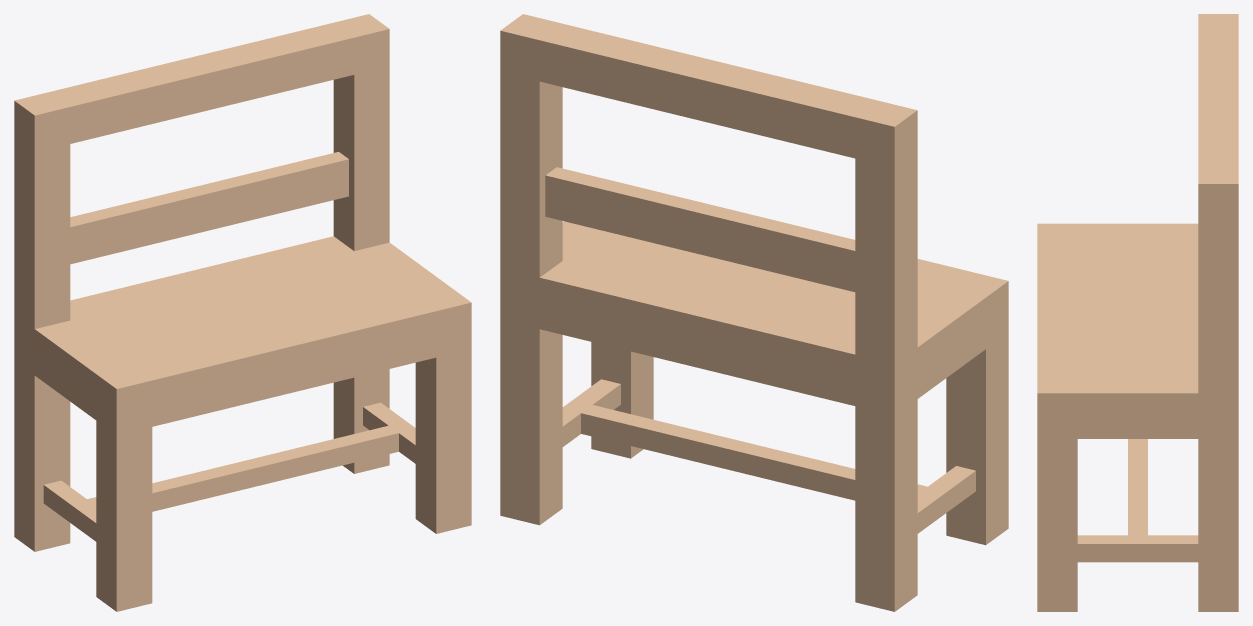
The model's file is bench.glb.
3 renders of one model, left to right at view 1: azimuth 30°, elevation 25°; view 2: azimuth 150°, elevation 25°; view 3: azimuth 270°, elevation 25°, orthographic. The views are drawn at different scales.
Visible parts, largest first — view 1: bench(Clone); view 2: bench(Clone); view 3: bench(Clone).
Part boxes in pixels (box(x1,y1,x2,y2)): bench(Clone): box(14, 14, 471, 611); bench(Clone): box(500, 14, 1008, 611); bench(Clone): box(1037, 14, 1238, 611).
Bounding box in the file's own units: 0.4 × 0.47 × 0.2.
